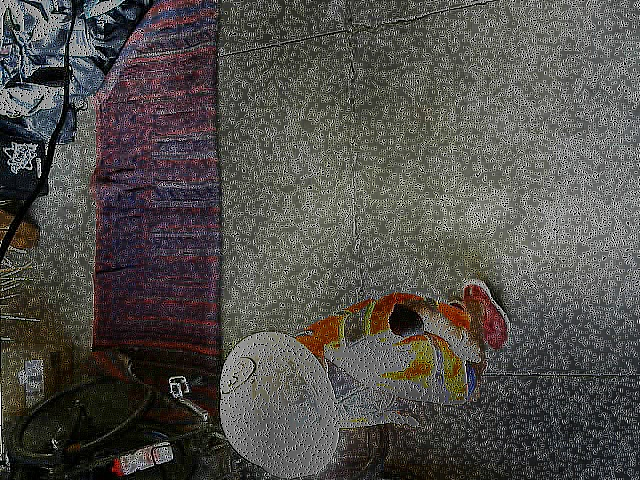three: (219, 355, 254, 394)
